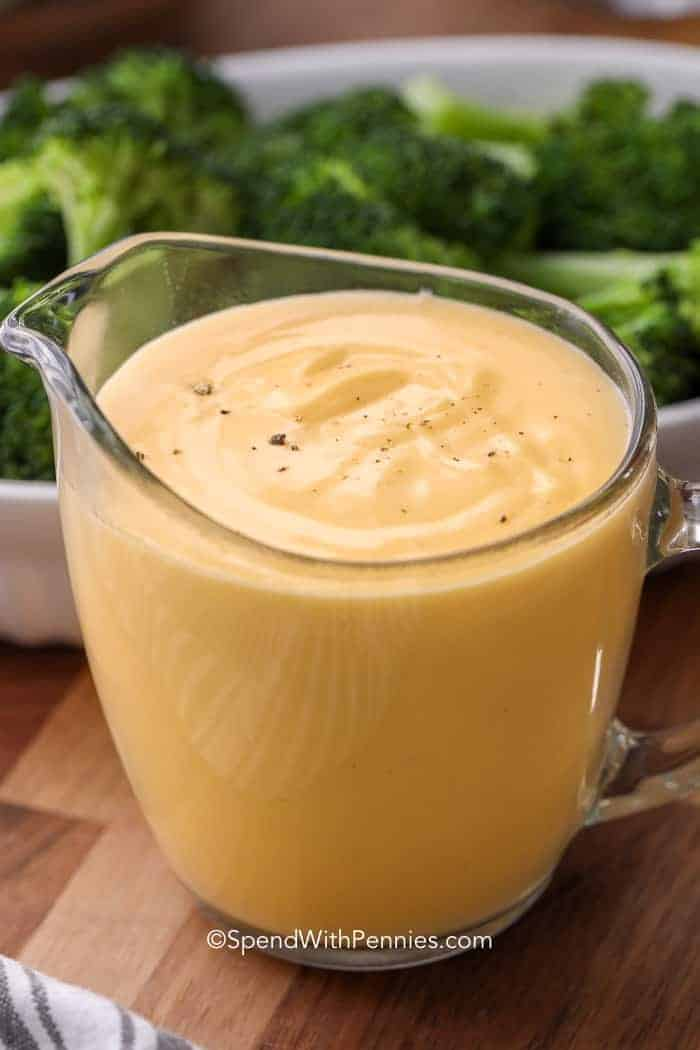cheese: (197, 303, 516, 541)
